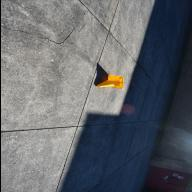cone: (96, 75, 123, 89)
